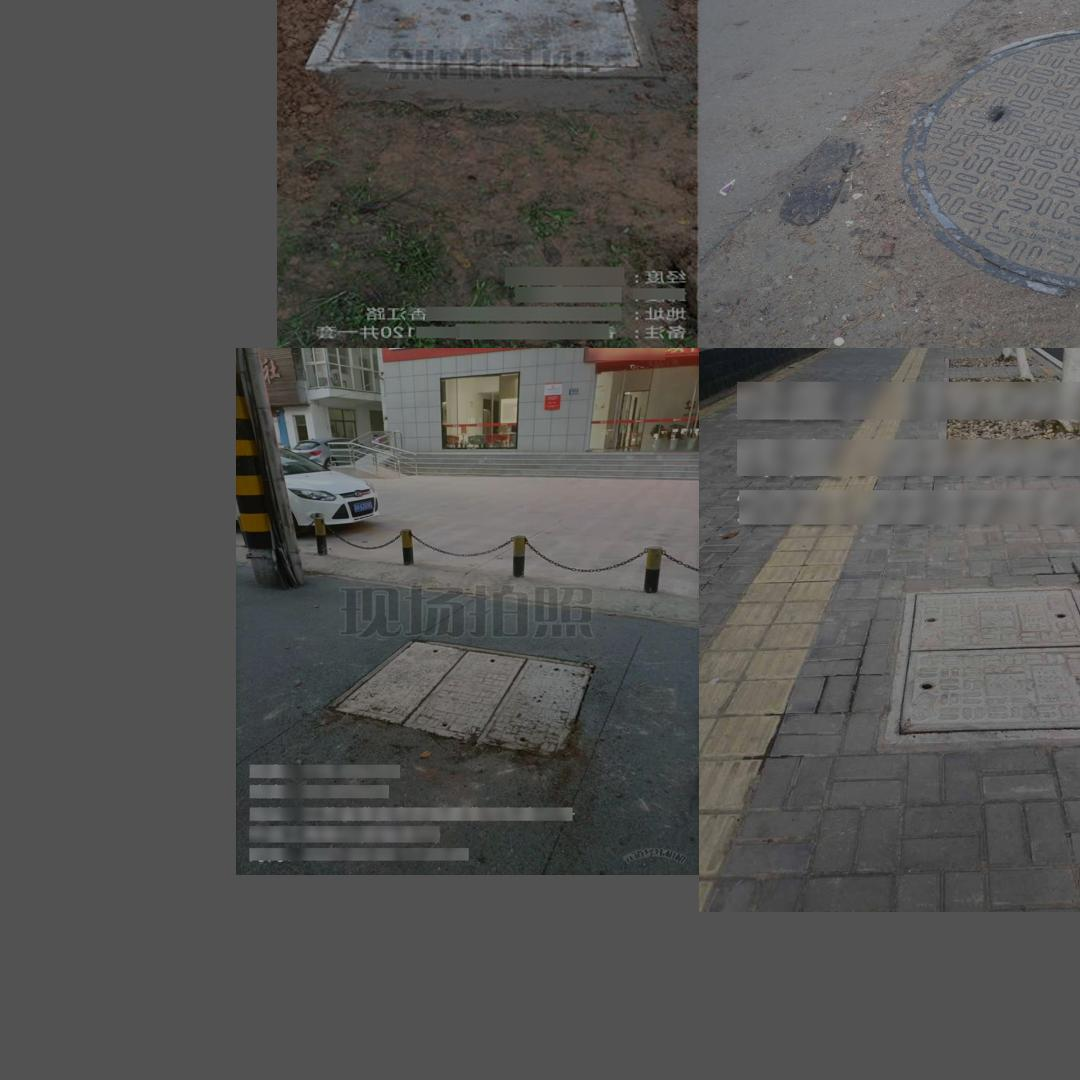good: (904, 25, 1080, 298), (324, 639, 593, 759), (884, 584, 1080, 741), (327, 0, 616, 67)
